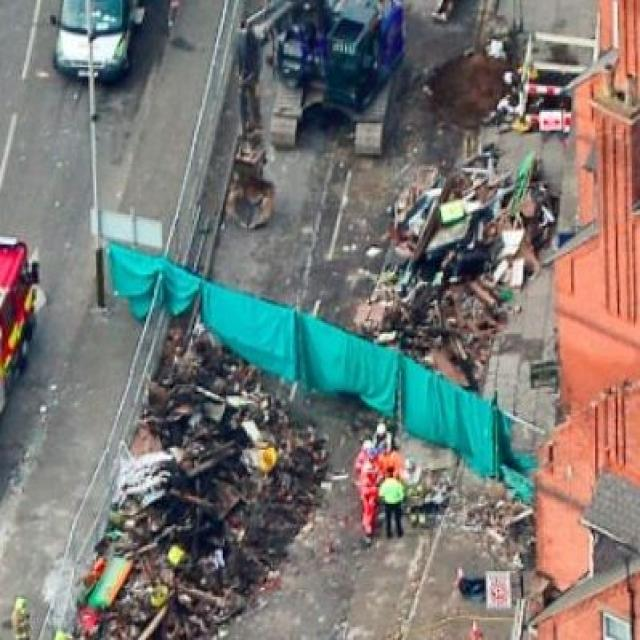collapsed_building: (379, 66, 563, 372)
